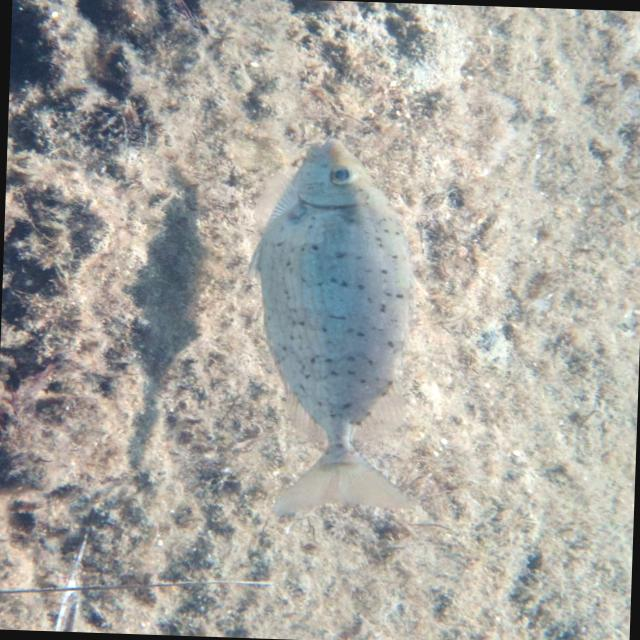Sokar Baligi: (228, 127, 444, 528)
